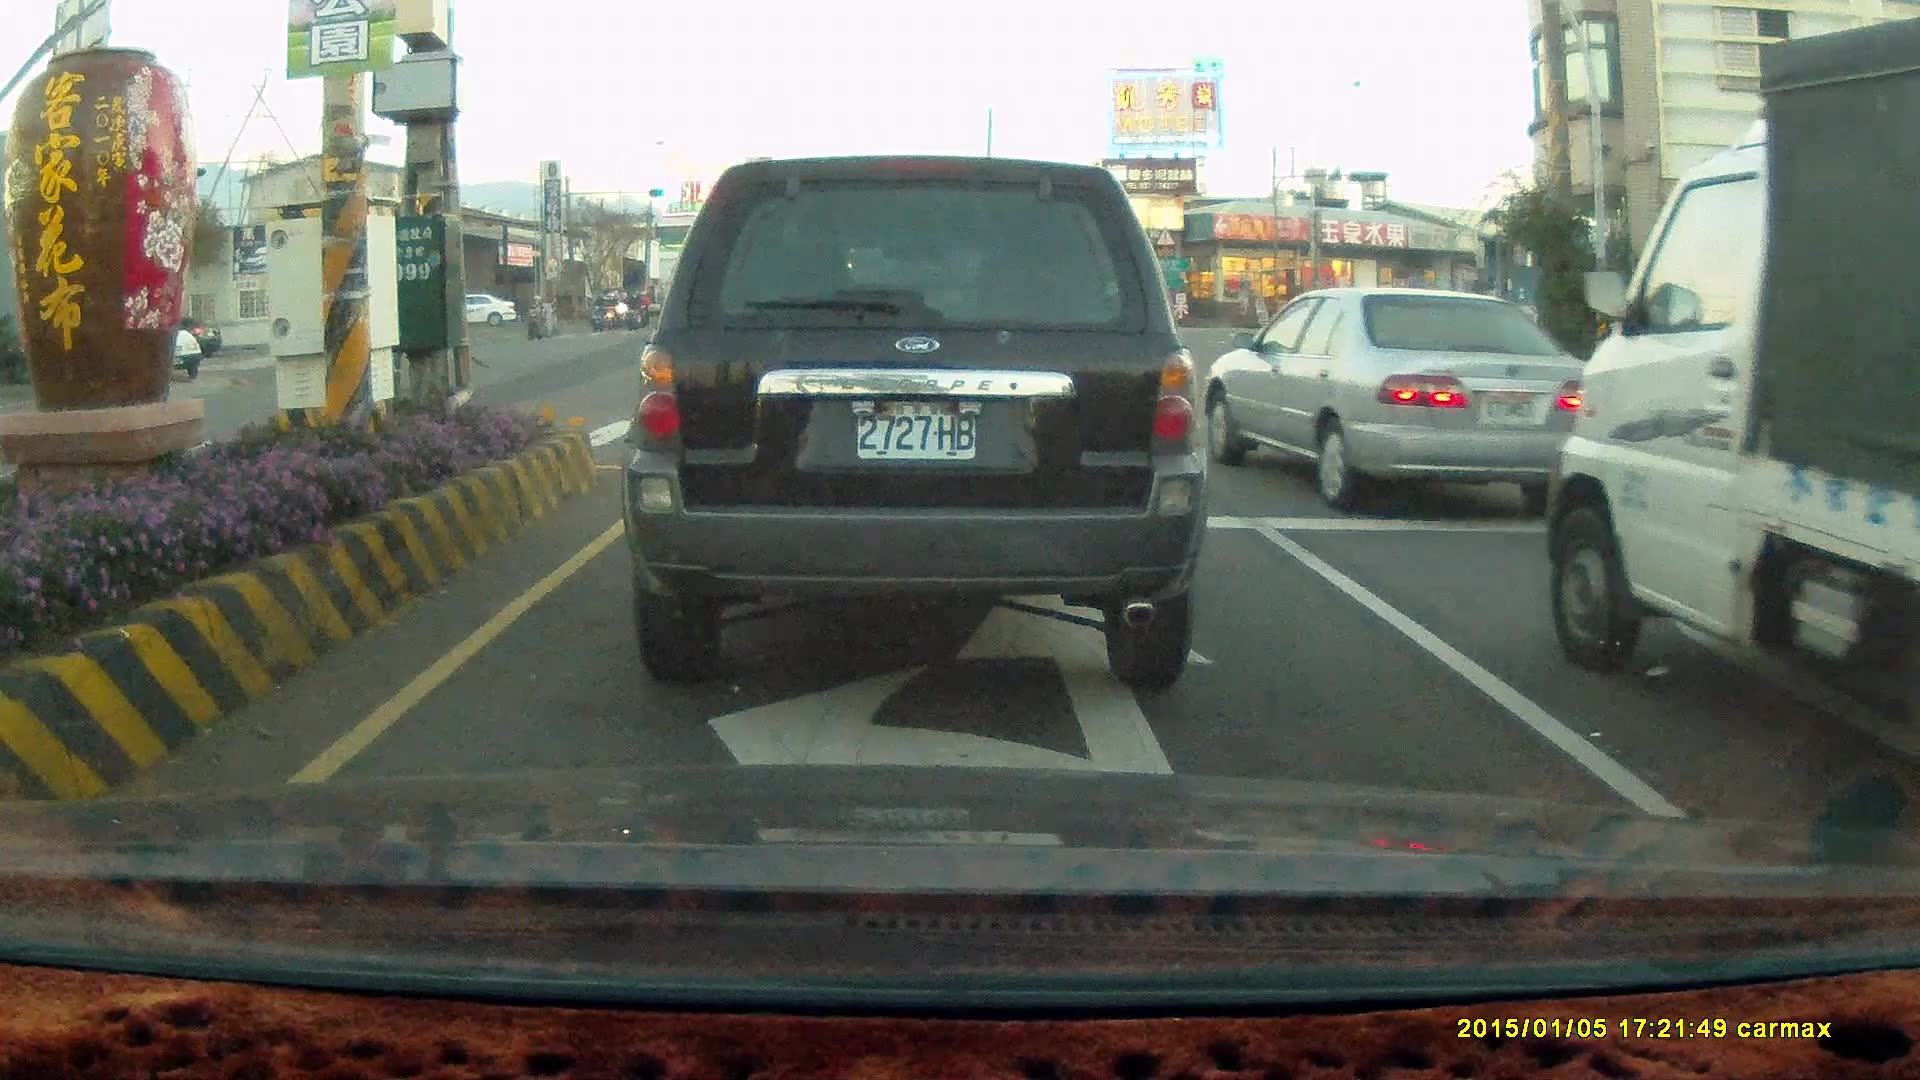rider: (517, 291, 548, 340), (621, 289, 645, 333), (586, 290, 607, 333), (590, 294, 612, 332)
vehicle: (619, 155, 1208, 691), (1542, 11, 1920, 828), (1199, 284, 1599, 512), (1195, 288, 1586, 513), (1674, 281, 1831, 371), (448, 295, 518, 328)
